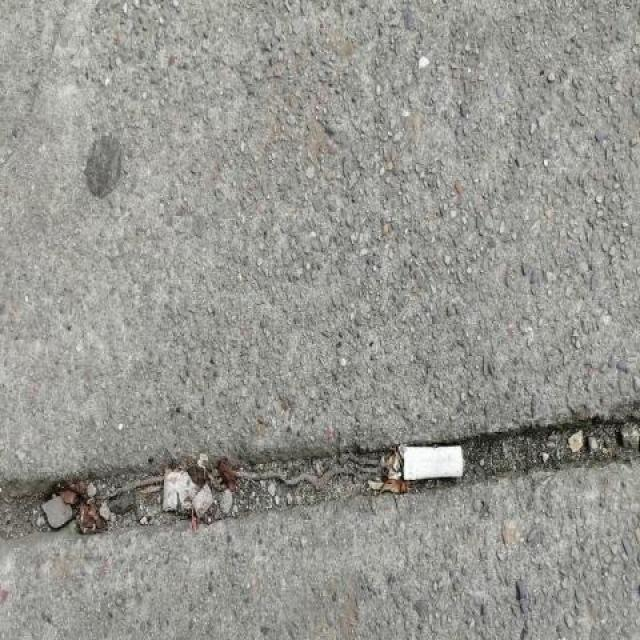non-organic waste: (395, 438, 469, 486)
